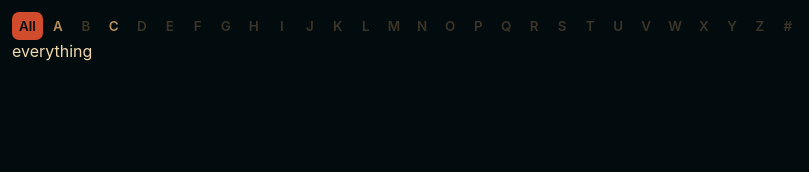
Test: AlphabetBar › follows a controlled value, as the page's ?letter= does
This screenshot has width=809, height=172.
Click the button "C" at [114, 26], box [101,12,127,40]
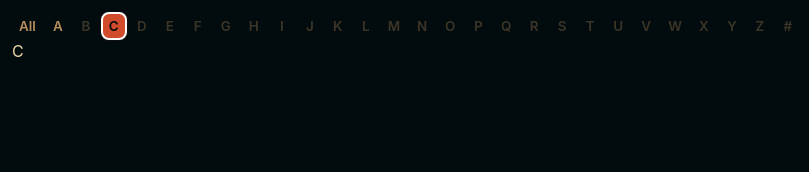
Check: the text "C" is shown, box [12,41,24,61]
Click the button "C" at [114, 26], box [101,12,127,40]
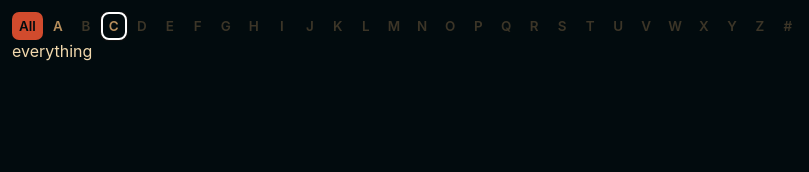
Check: the text "everything" is shown, box [12,41,92,61]
